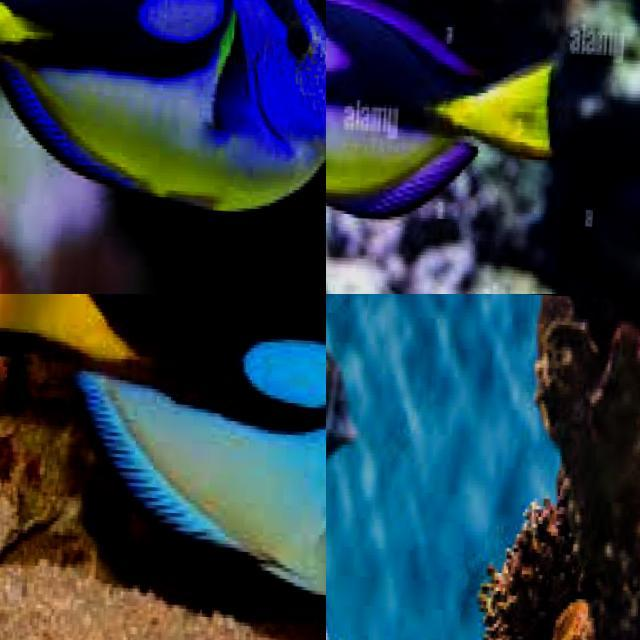BlueTang: (0, 294, 326, 640), (0, 0, 326, 236), (326, 0, 586, 283), (326, 536, 439, 640)
